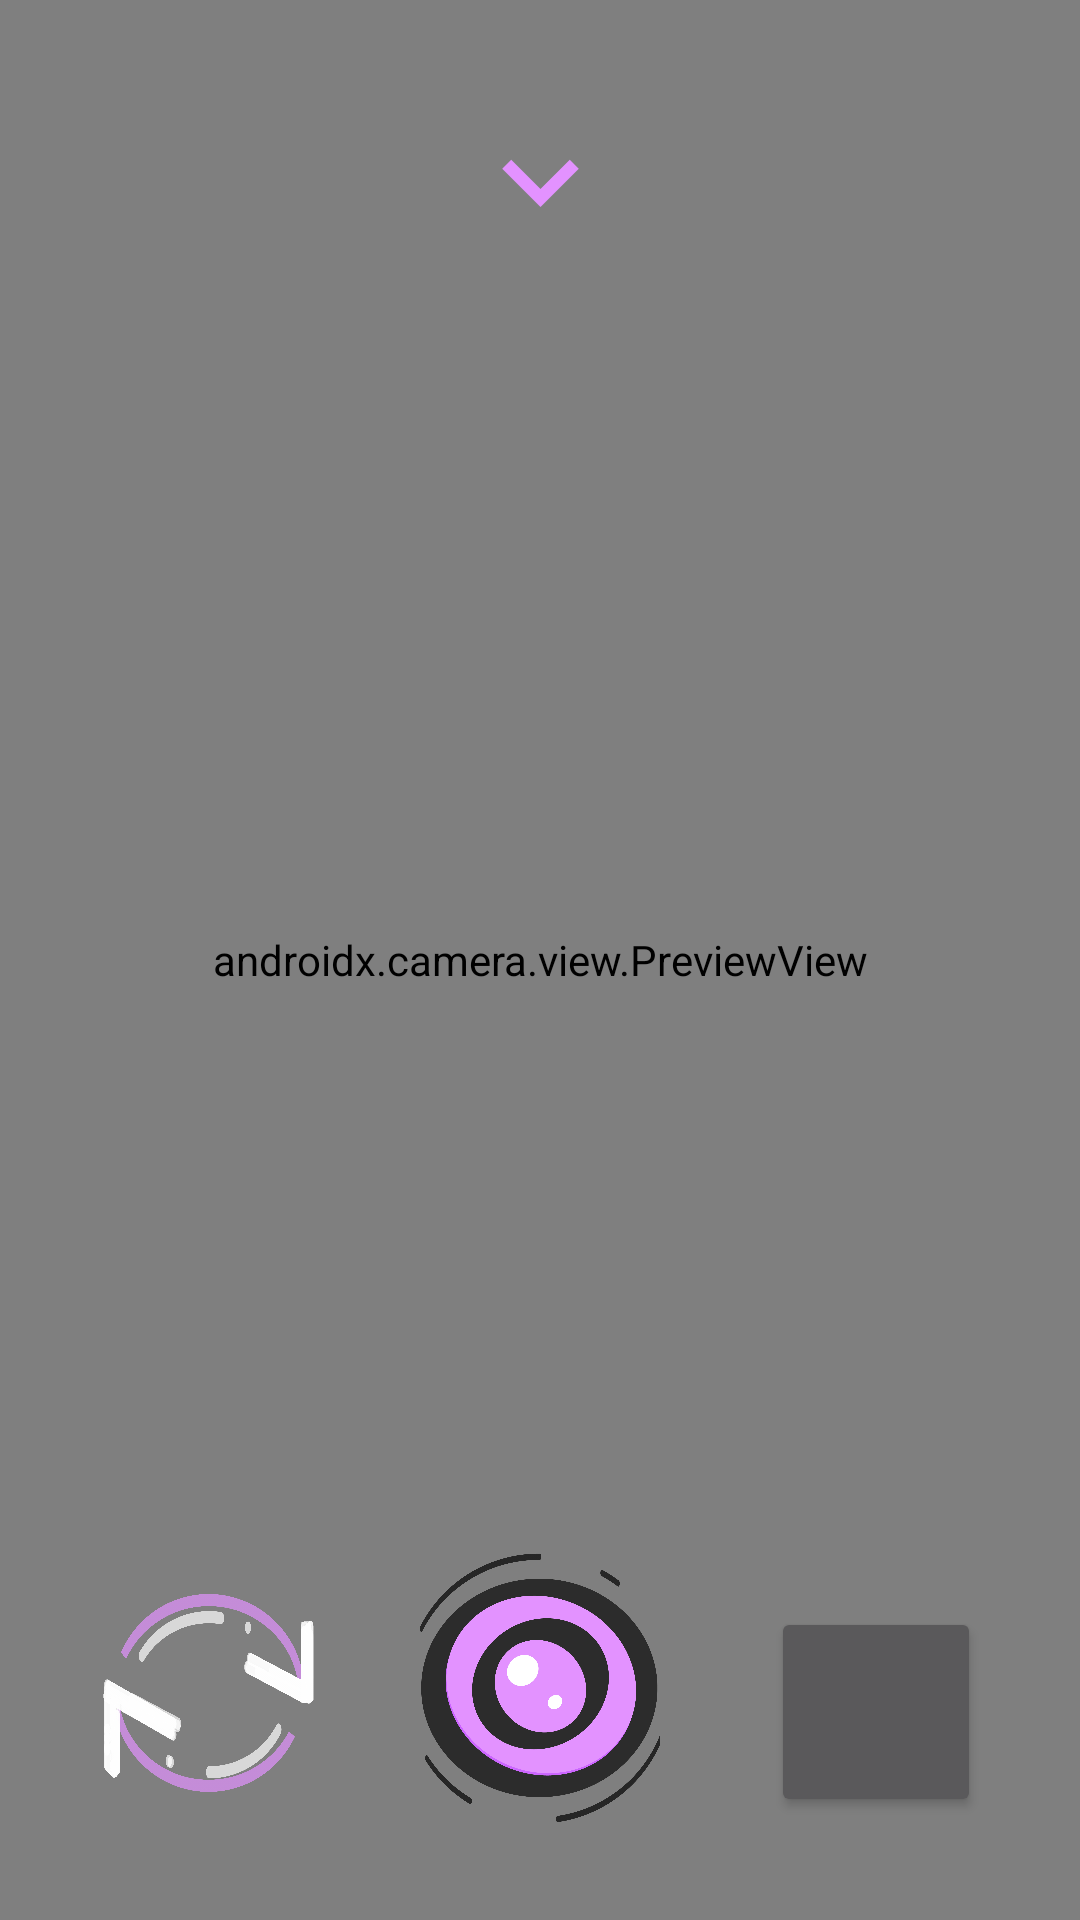

Icon click points for this 1080×1920 phone screenshot, format (x,y):
capture press: (540,1688)
expand more: (540,183)
flip press: (208,1693)
